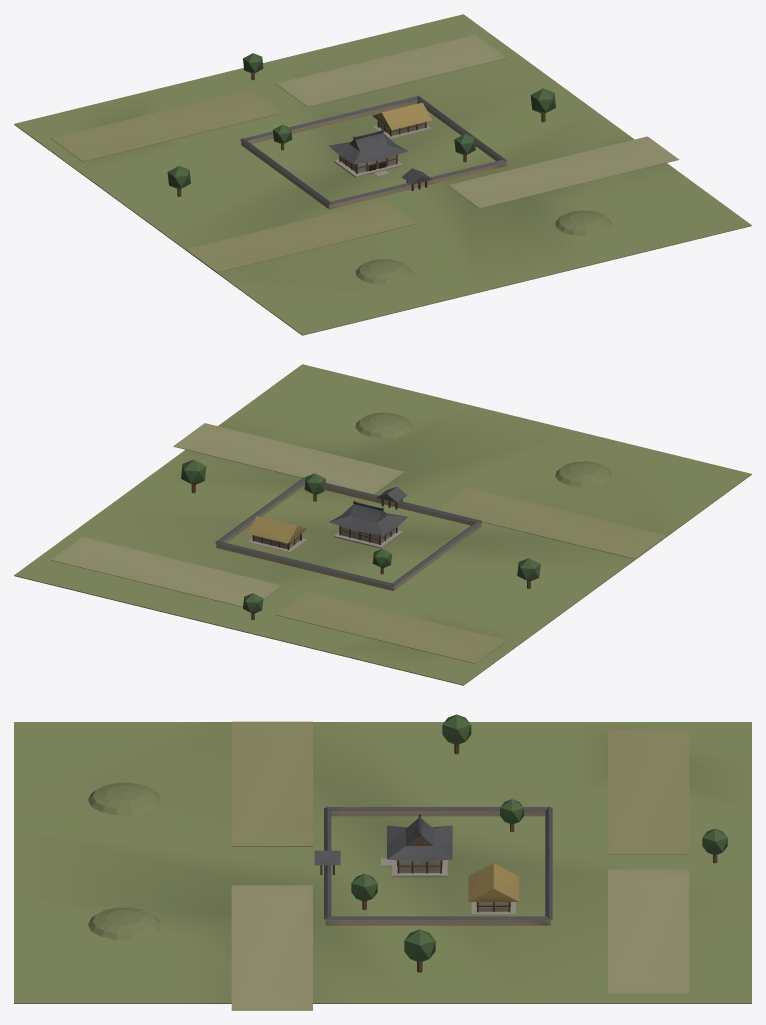
File: daianji-1700.glb
The picture shows the model from 3 angles, top to bottom: view 1: azimuth 30°, elevation 25°; view 2: azimuth 150°, elevation 25°; view 3: azimuth 270°, elevation 25°; orthographic projection. The views are drawn at different scales.
Parts seen in each view (by area): view 1: p0_grounds, p2_roofs, p1_halls; view 2: p0_grounds, p2_roofs, p1_halls; view 3: p0_grounds, p2_roofs, p1_halls.
Part boxes in pixels (<box>): p0_grounds: <box>14,14,751,335</box>; p2_roofs: <box>167,53,555,196</box>; p1_halls: <box>334,120,432,191</box>; p0_grounds: <box>14,364,751,685</box>; p2_roofs: <box>181,459,540,620</box>; p1_halls: <box>247,487,407,552</box>; p0_grounds: <box>14,721,751,1010</box>; p2_roofs: <box>351,714,727,972</box>; p1_halls: <box>314,850,515,914</box>.
Bounding box in the file's own units: 185 × 12.95 × 200.
